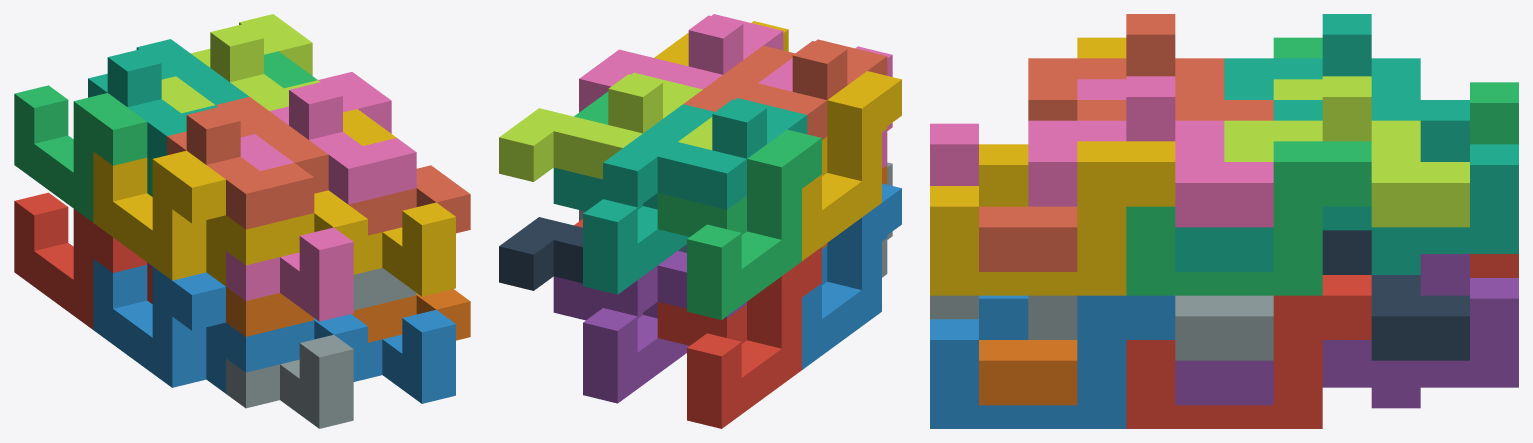
Rendered from tiling.obj.
3 renders of one model, left to right at view 1: azimuth 30°, elevation 25°; view 2: azimuth 150°, elevation 25°; view 3: azimuth 270°, elevation 25°, orthographic. The views are drawn at different scales.
Parts seen in each view (by area): view 1: copy_1_domain_4, copy_1_domain_2, copy_1_domain_3, copy_3_domain_8, copy_3_domain_4, copy_1_domain_1, copy_2_domain_4, copy_2_domain_2, copy_2_domain_8, copy_3_domain_3, copy_4_domain_4, copy_2_domain_6 (+10 smaller); view 2: copy_1_domain_3, copy_3_domain_3, copy_1_domain_1, copy_1_domain_4, copy_3_domain_7, copy_1_domain_2, copy_1_domain_7, copy_3_domain_4, copy_3_domain_8, copy_1_domain_5, copy_3_domain_5, copy_3_domain_1 (+10 smaller); view 3: copy_2_domain_8, copy_2_domain_7, copy_3_domain_8, copy_2_domain_5, copy_2_domain_6, copy_3_domain_7, copy_3_domain_3, copy_3_domain_4, copy_3_domain_5, copy_1_domain_5, copy_1_domain_7, copy_3_domain_6 (+14 smaller).
Boxes of the visible parts, x1,y1,x2,y2 form: copy_1_domain_4: (93, 150, 225, 280); copy_1_domain_2: (93, 259, 225, 387); copy_1_domain_3: (14, 85, 147, 222); copy_3_domain_8: (270, 72, 416, 204); copy_3_domain_4: (167, 97, 314, 229); copy_1_domain_1: (14, 192, 147, 329); copy_2_domain_4: (226, 134, 353, 321); copy_2_domain_2: (226, 334, 353, 428); copy_2_domain_8: (343, 109, 455, 296); copy_3_domain_3: (88, 39, 217, 160); copy_4_domain_4: (206, 190, 367, 286); copy_2_domain_6: (353, 309, 455, 403); copy_1_domain_3: (687, 129, 821, 319); copy_3_domain_3: (603, 98, 807, 209); copy_1_domain_1: (687, 247, 821, 428); copy_1_domain_4: (802, 71, 901, 260); copy_3_domain_7: (499, 72, 702, 181); copy_1_domain_2: (802, 183, 901, 369); copy_1_domain_7: (583, 104, 714, 294); copy_3_domain_4: (683, 39, 887, 139); copy_3_domain_8: (579, 14, 783, 112); copy_1_domain_5: (583, 302, 689, 403); copy_3_domain_5: (499, 217, 582, 290); copy_3_domain_1: (603, 251, 746, 318); copy_2_domain_8: (930, 141, 1175, 295); copy_2_domain_7: (1126, 141, 1371, 295); copy_3_domain_8: (1028, 76, 1273, 227); copy_2_domain_5: (1126, 275, 1371, 428); copy_2_domain_6: (930, 295, 1175, 428); copy_3_domain_7: (1224, 76, 1469, 227); copy_3_domain_3: (1224, 14, 1469, 161); copy_3_domain_4: (1028, 14, 1273, 120); copy_3_domain_5: (1322, 230, 1469, 360); copy_1_domain_5: (1322, 278, 1518, 408); copy_1_domain_7: (1273, 100, 1518, 274); copy_3_domain_6: (1028, 295, 1273, 360).
Bounding box in the file's own units: 7 × 7 × 12.
